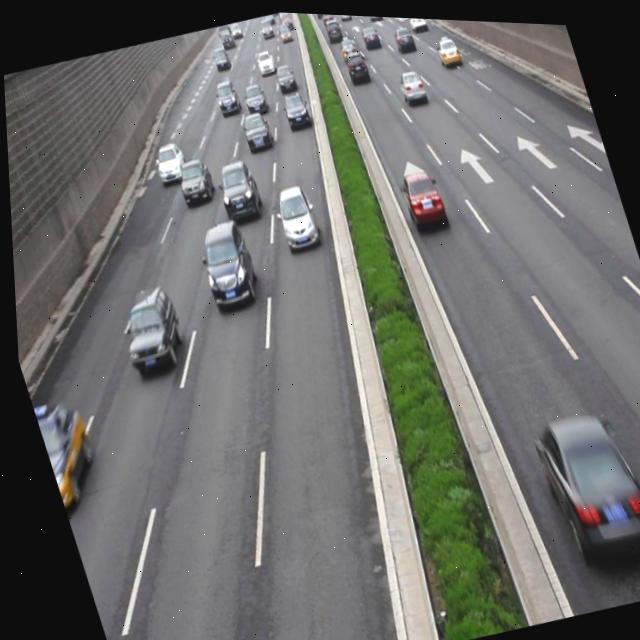car: (521, 392, 640, 567), (27, 393, 100, 505), (106, 278, 187, 376), (188, 213, 261, 311), (210, 152, 264, 221), (267, 178, 320, 248), (393, 160, 446, 227), (172, 153, 216, 205), (148, 136, 189, 185), (237, 105, 275, 153), (392, 61, 427, 104), (278, 86, 311, 129), (238, 77, 269, 114), (211, 74, 240, 112), (342, 45, 369, 80), (432, 31, 460, 64)
